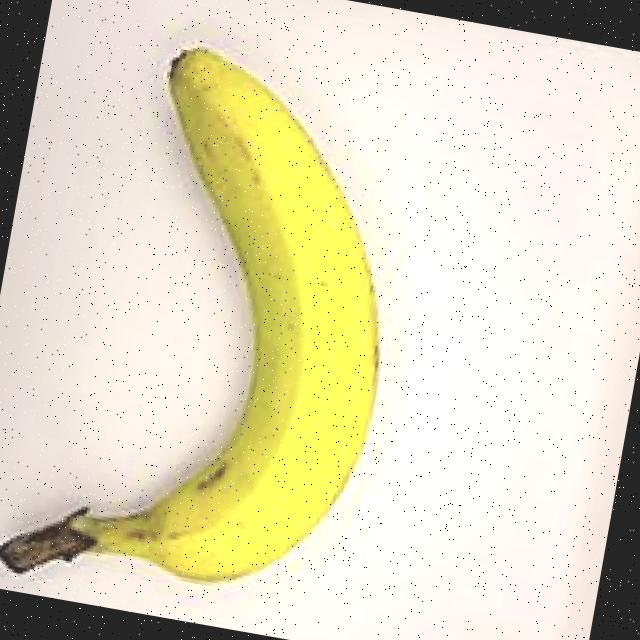Ripe: (0, 4, 453, 640)
